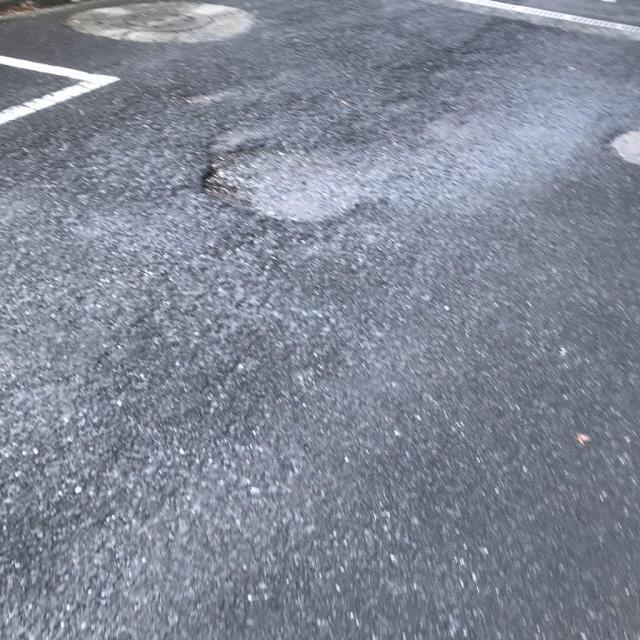Pothole: (220, 152, 367, 228)
